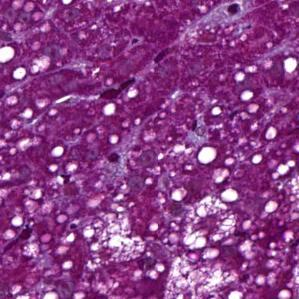ballooning: (180, 193, 239, 253)
